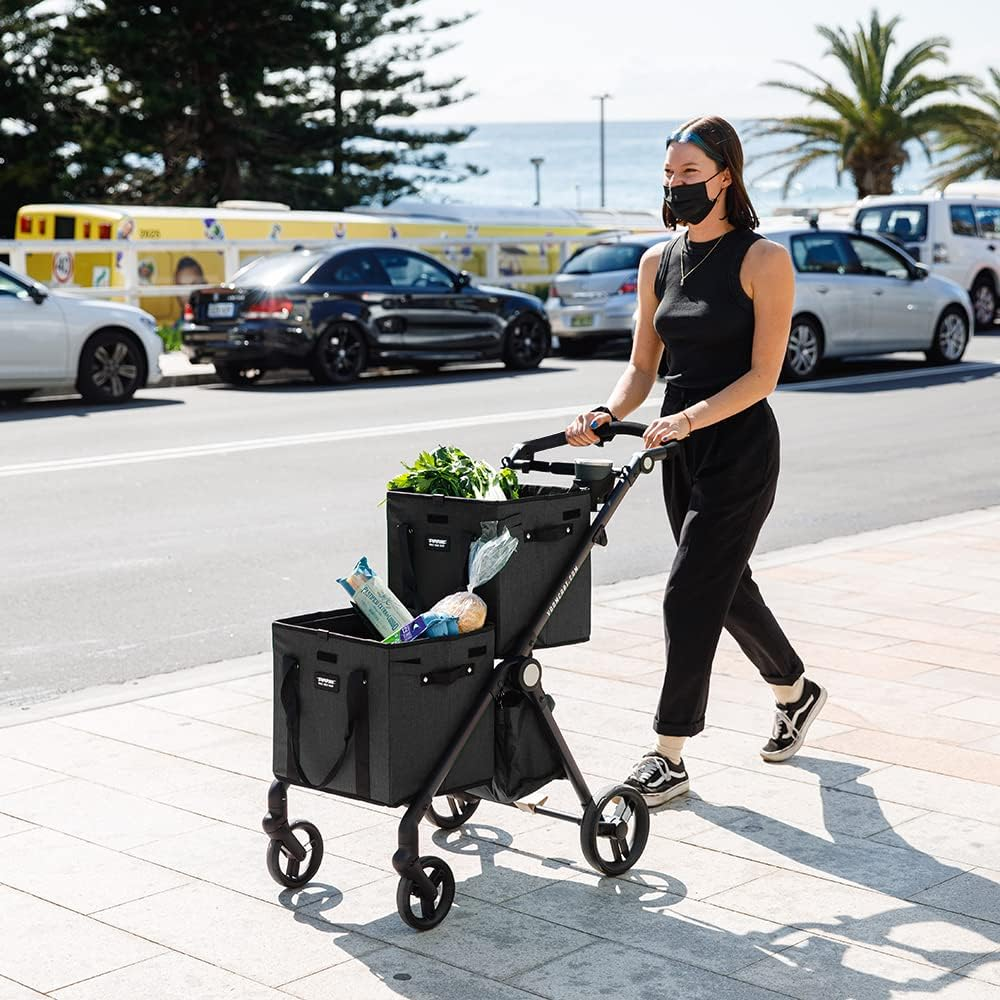Car: (178, 244, 560, 380), (778, 224, 983, 372), (1, 262, 176, 403)
Person: (613, 112, 834, 815)
Tree: (1, 1, 280, 191), (266, 1, 417, 214), (788, 17, 924, 205)
shopping_cart: (265, 422, 657, 925)
